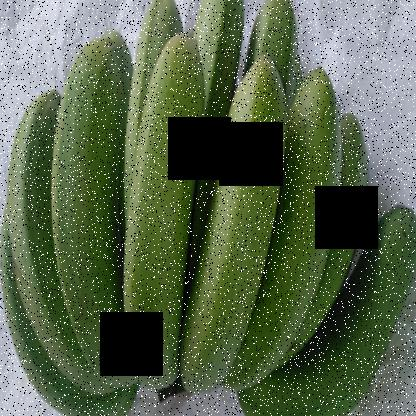freshunripe: (173, 43, 296, 377), (113, 21, 215, 399), (52, 6, 144, 399), (240, 57, 346, 374), (4, 69, 88, 412), (307, 193, 414, 415), (324, 90, 378, 254), (252, 0, 306, 80), (197, 1, 249, 60)
